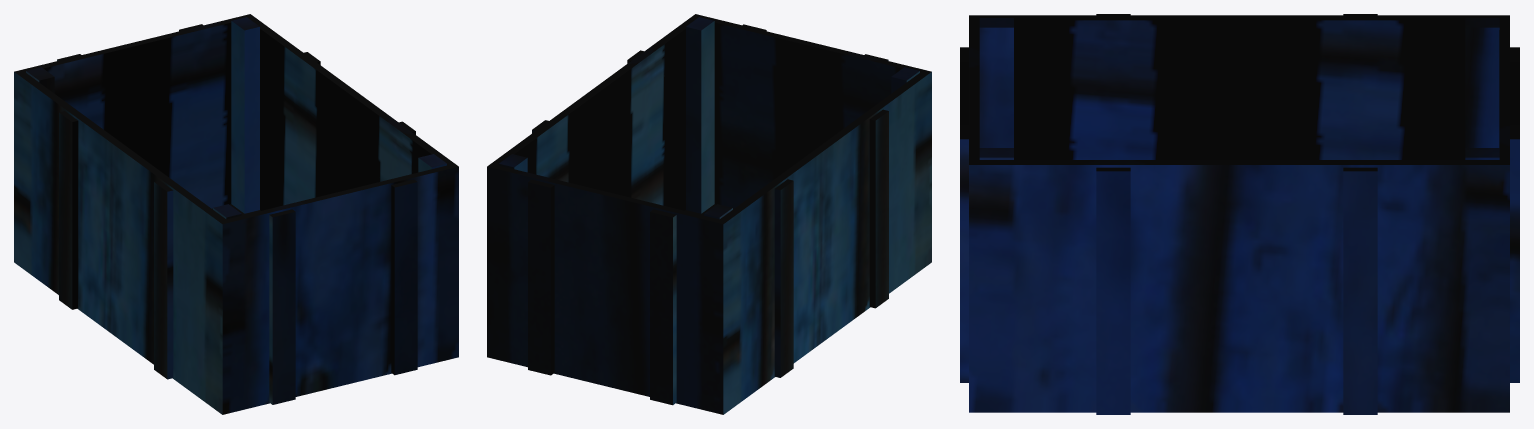
The model's file is powerupGunBox.obj.
3 renders of one model, left to right at view 1: azimuth 30°, elevation 25°; view 2: azimuth 150°, elevation 25°; view 3: azimuth 270°, elevation 25°, orthographic. The views are drawn at different scales.
Parts seen in each view (by area): view 1: box; view 2: box; view 3: box.
Boxes of the visible parts, x1,y1,x2,y2 form: box: [14, 14, 458, 414]; box: [487, 14, 931, 414]; box: [960, 14, 1519, 414].
Size of the model in its own units: 14.35 by 10.62 by 21.57.
1 material, 1 textured.
